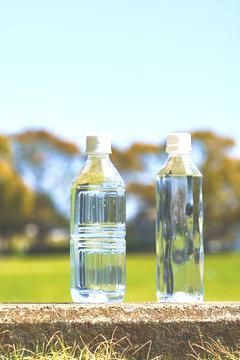bottle: (63, 130, 134, 310), (150, 129, 211, 310)
